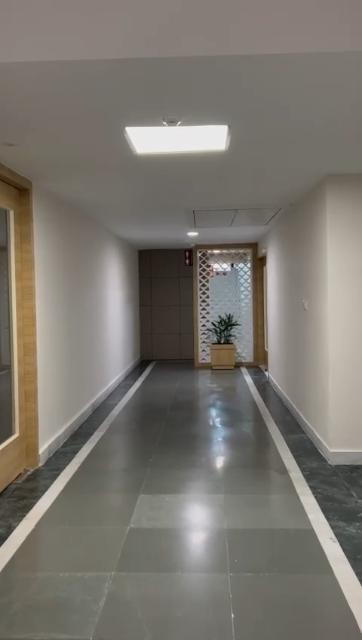door: (0, 161, 38, 481)
floor: (3, 360, 360, 639)
object: (207, 316, 244, 372)
wall: (265, 182, 361, 445), (40, 192, 137, 437)
